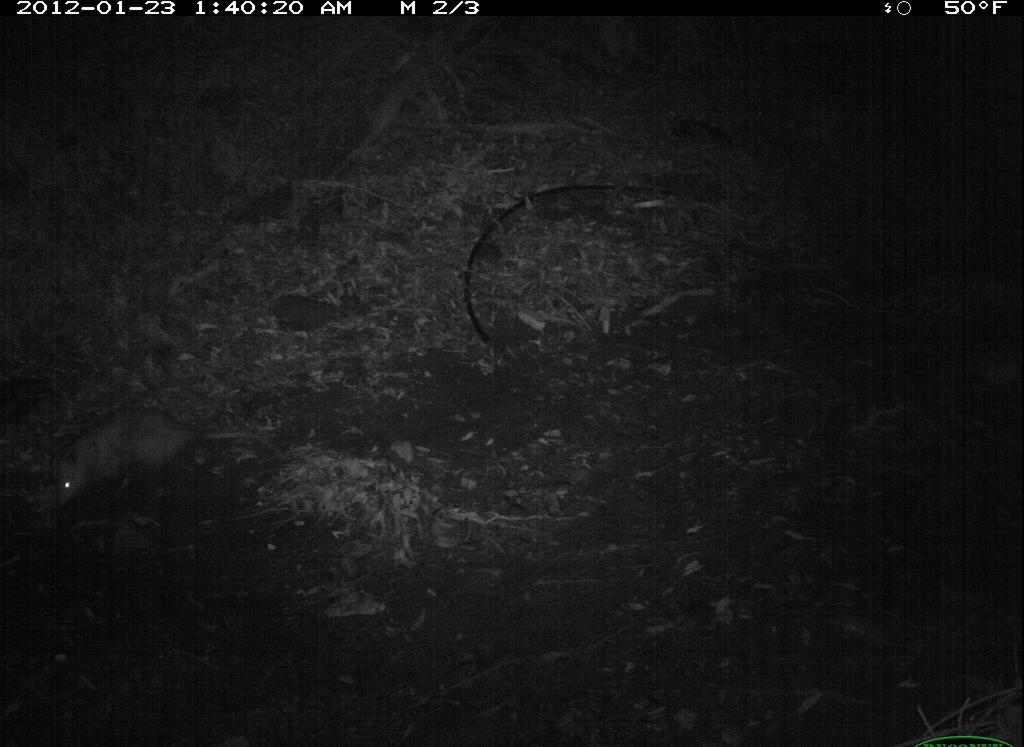opossum: (48, 395, 318, 518)
